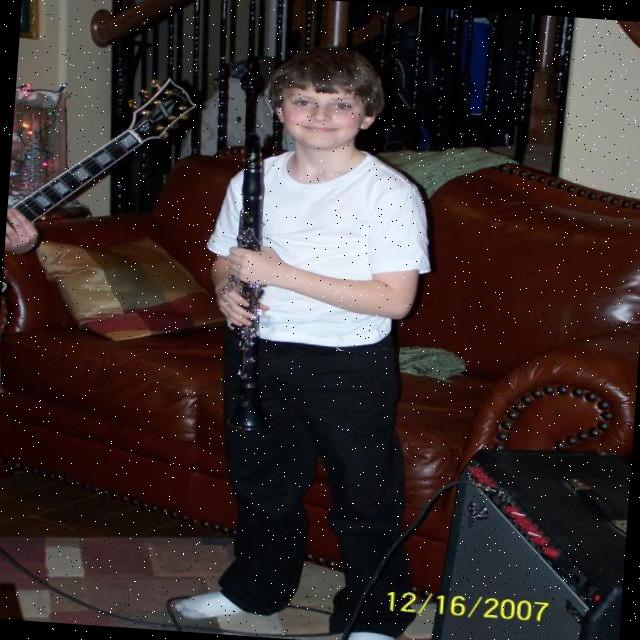clarinet: (218, 132, 284, 434)
guitar: (0, 67, 204, 320)
